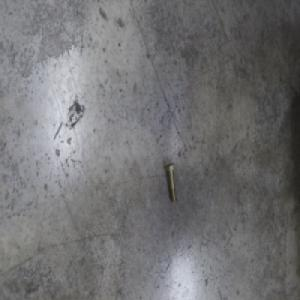Bolt: (165, 161, 177, 203)
